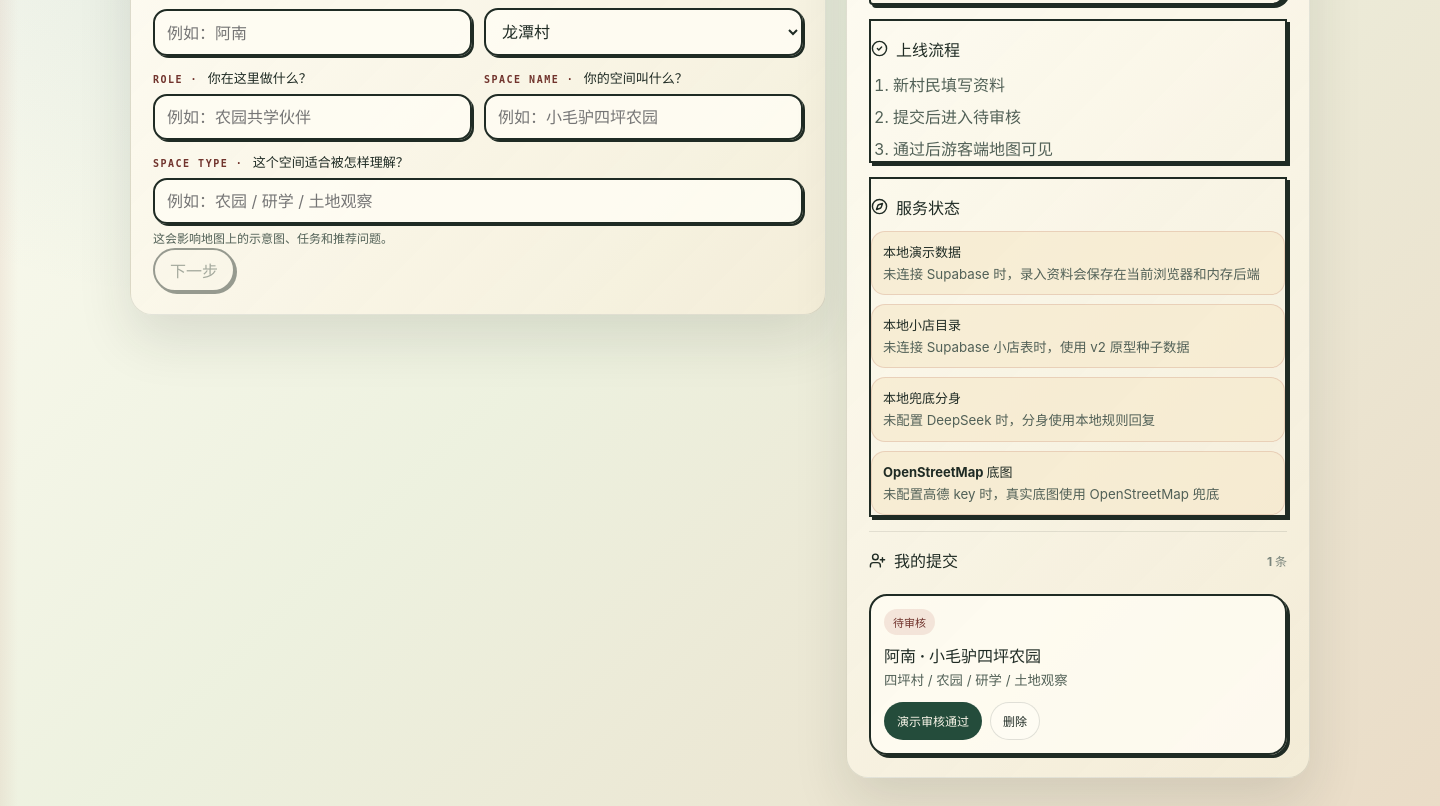
Scenario: Cunxun demo app › lets demo operators approve and remove villager submissions
(page scrolled)
Expected: the element "我的提交" is shown, [869,531,1287,755]
Expected: the text "待审核" is shown, [884,609,935,635]
Step 1. Click the button "演示审核通过" → (933, 721), box [884,702,982,740]
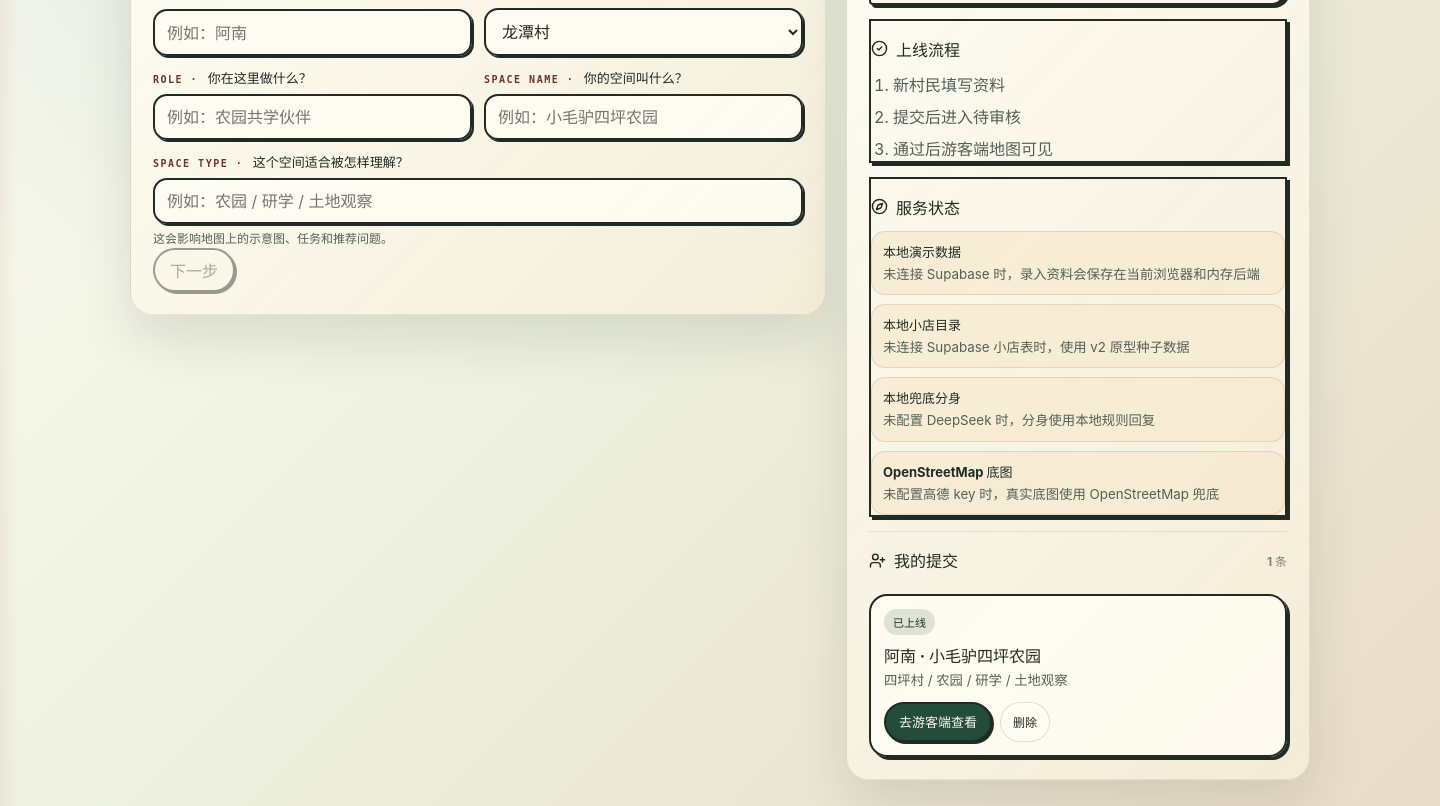
Expected: the text "已上线" is shown, [884,609,935,635]
Step 2. Click the button with aria-label "删除阿南" → (1025, 722), box [1000,702,1050,742]
(page scrolled)
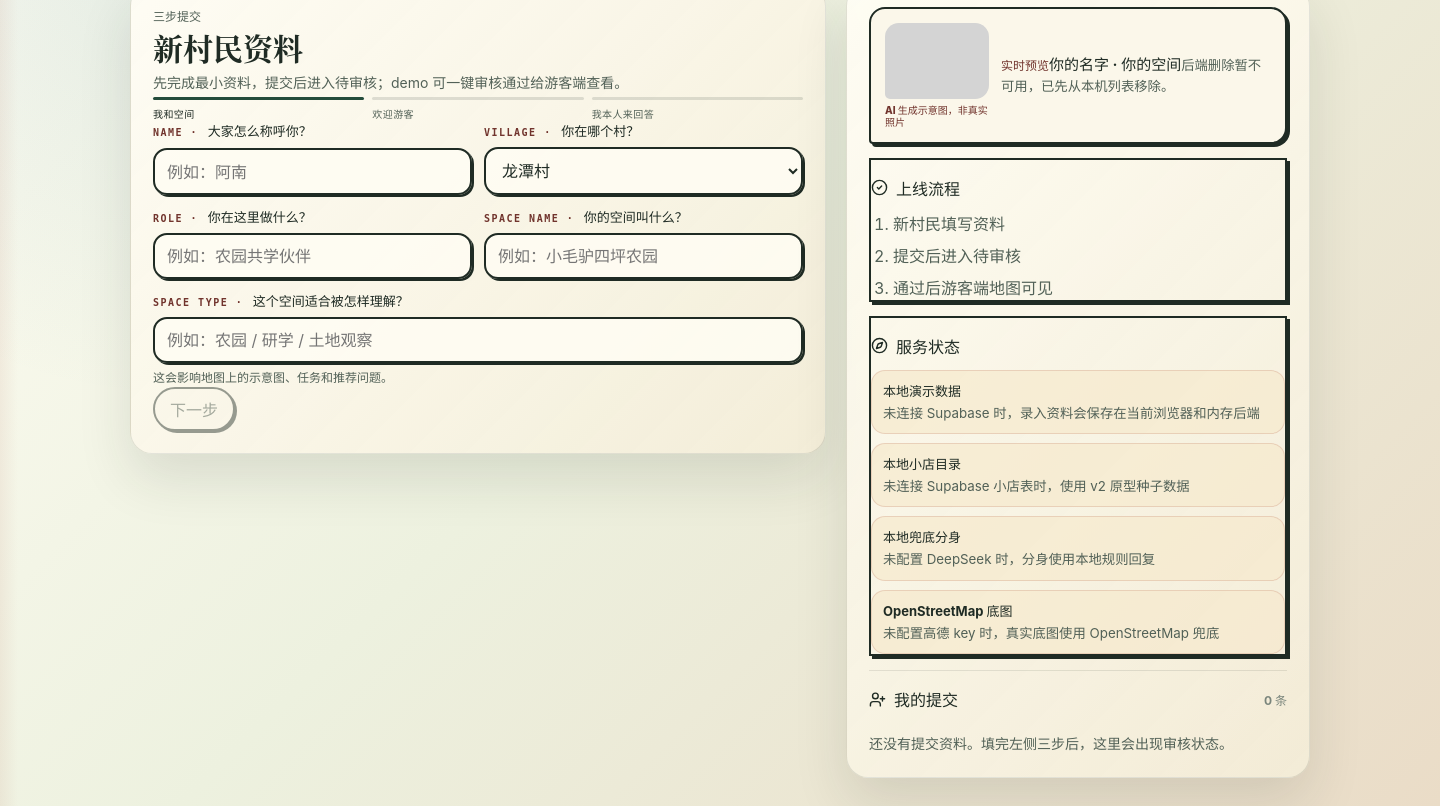
Expected: the text "阿南 · 小毛驴四坪农园" is gone
Expected: the text "还没有提交资料。填完左侧三步后，这里会出现审核状态。" is shown, [869,733,1287,755]
